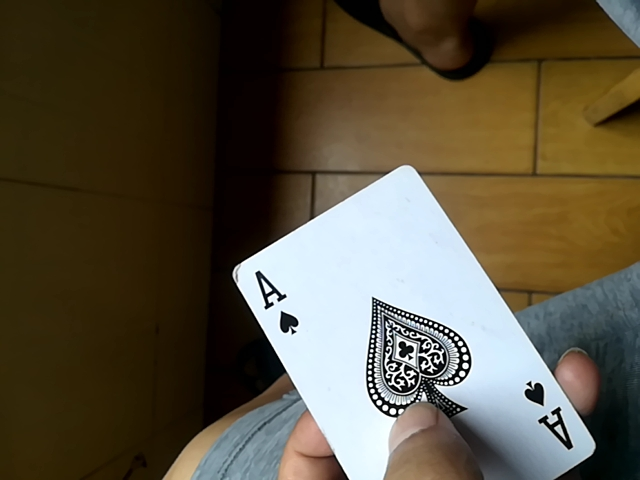ht a: (227, 166, 594, 478)
